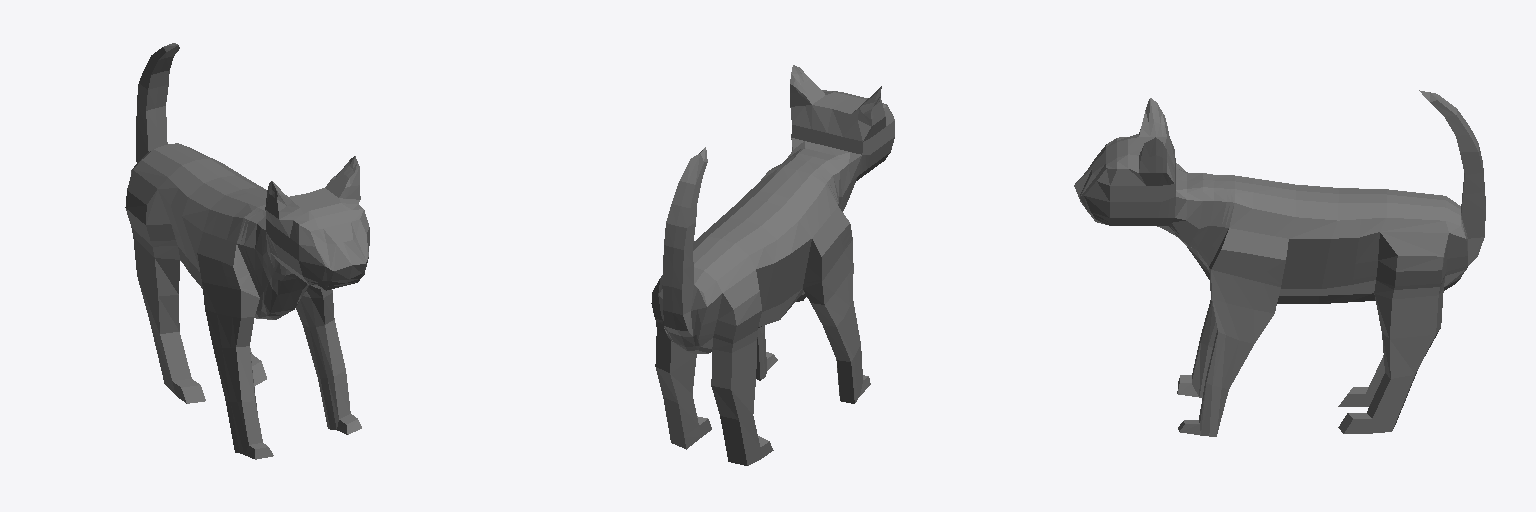
Rendered from Low_Poly_Cat_Extra.obj.
3 renders of one model, left to right at view 1: azimuth 30°, elevation 25°; view 2: azimuth 150°, elevation 25°; view 3: azimuth 270°, elevation 25°, orthographic.
Parts seen in each view (by area): view 1: pCube2_pCube2; view 2: pCube2_pCube2; view 3: pCube2_pCube2.
Boxes of the visible parts, x1,y1,x2,y2 form: pCube2_pCube2: [125, 43, 369, 459]; pCube2_pCube2: [651, 65, 894, 465]; pCube2_pCube2: [1074, 90, 1485, 436].
Bounding box in the file's own units: 8.63 × 23.51 × 27.1.